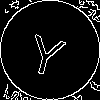Y: (25, 25, 70, 78)
